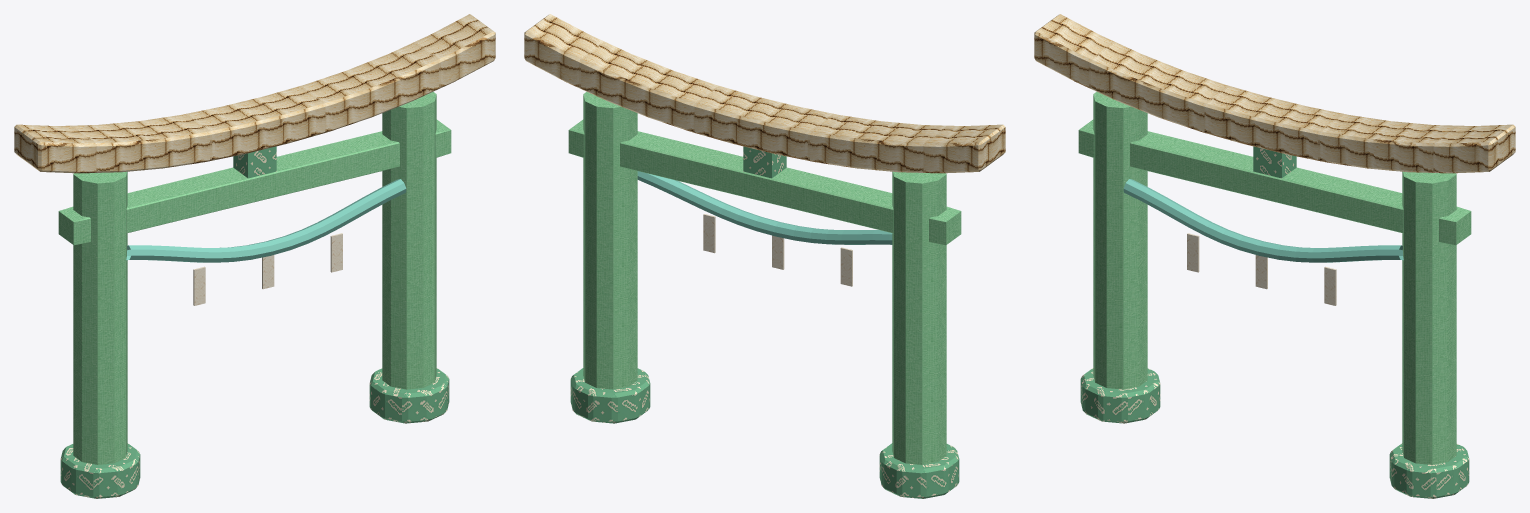
The model's file is sanct_gate.glb.
3 renders of one model, left to right at view 1: azimuth 30°, elevation 25°; view 2: azimuth 150°, elevation 25°; view 3: azimuth 330°, elevation 25°, orthographic.
Visible parts, largest first — view 1: Kasagi, Pillar-1, Pillar1, Nuki, Rope, Foot-1, Foot1, Plaque; view 2: Kasagi, Pillar-1, Pillar1, Nuki, Rope, Foot-1, Foot1, Plaque; view 3: Kasagi, Pillar1, Pillar-1, Nuki, Rope, Foot1, Foot-1, Plaque.
Part boxes in pixels (x1,y1,x2,y2): Kasagi: (14, 14, 495, 173); Pillar-1: (73, 171, 127, 464); Pillar1: (382, 92, 436, 389); Nuki: (58, 119, 451, 245); Rope: (126, 179, 406, 262); Foot-1: (60, 443, 140, 498); Foot1: (369, 368, 449, 423); Plaque: (233, 146, 276, 178); Kasagi: (524, 14, 1005, 173); Pillar-1: (892, 171, 946, 464); Pillar1: (583, 92, 637, 389); Nuki: (568, 119, 961, 245); Rope: (637, 171, 892, 244); Foot-1: (879, 443, 959, 498); Foot1: (570, 368, 650, 423); Plaque: (743, 146, 786, 178); Kasagi: (1034, 14, 1515, 173); Pillar1: (1402, 171, 1456, 464); Pillar-1: (1093, 92, 1147, 389); Nuki: (1078, 119, 1471, 245); Rope: (1123, 179, 1403, 262); Foot1: (1389, 443, 1469, 498); Foot-1: (1080, 368, 1160, 423); Plaque: (1253, 146, 1296, 178).
Size of the model in its own units: 8 by 6.14 by 1.21.
Materials: 5 (4 with a texture image).
